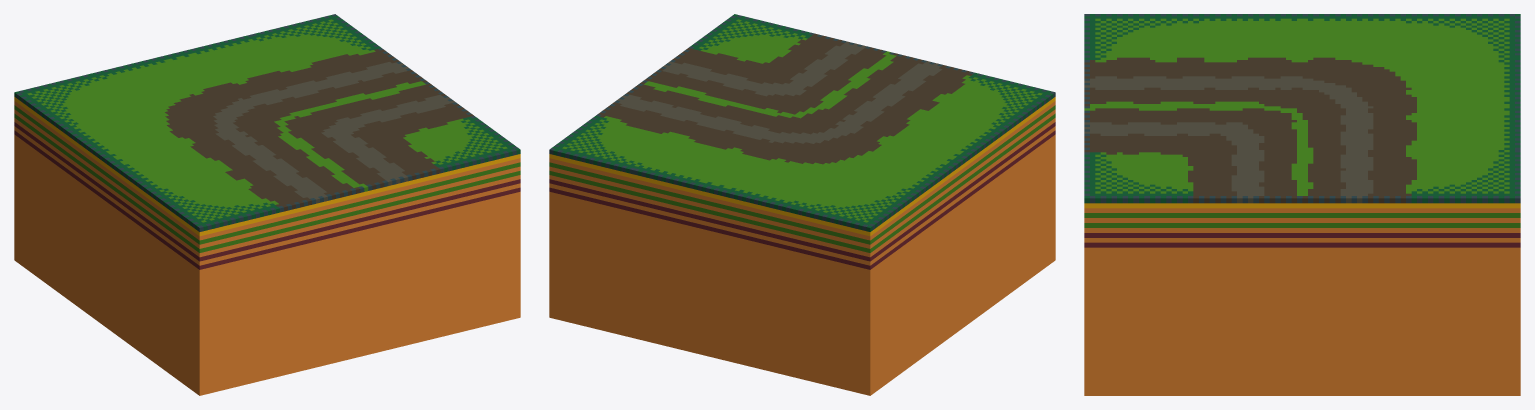
File: dirt_road_2_tile.obj
3 renders of one model, left to right at view 1: azimuth 30°, elevation 25°; view 2: azimuth 150°, elevation 25°; view 3: azimuth 270°, elevation 25°, orthographic. The views are drawn at different scales.
Size of the model in its own units: 8 by 4 by 8.
1 material, 1 textured.
